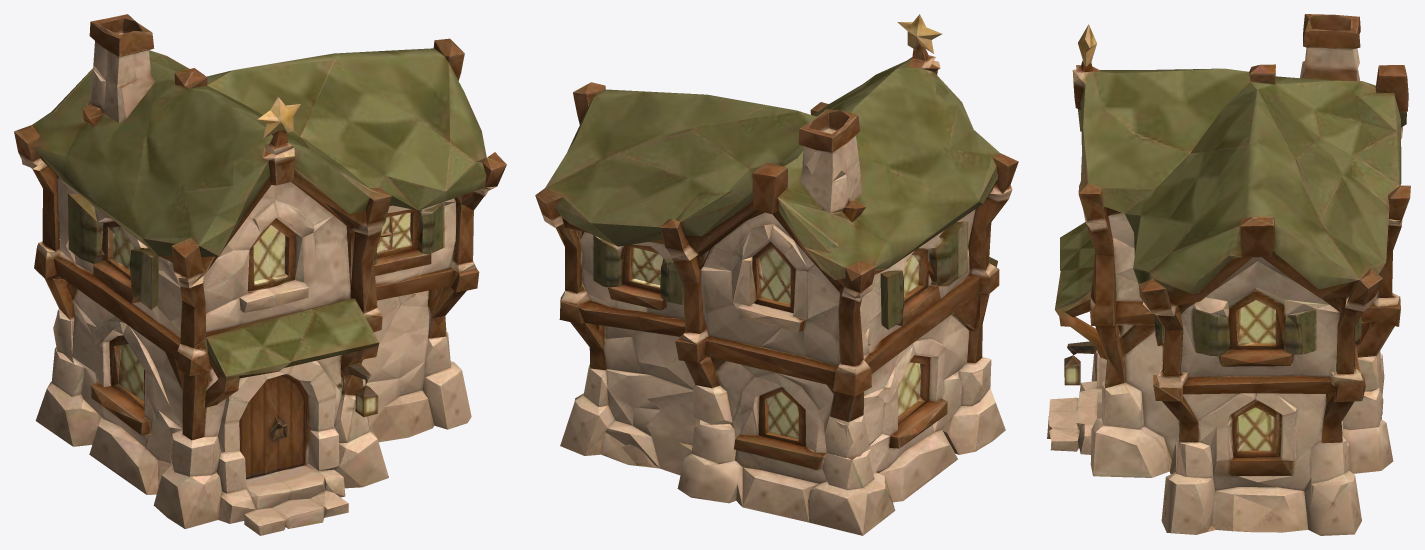
The model's file is alpha-sage-house.glb.
3 views of the same model, side by side, from view 1: azimuth 30°, elevation 25°; view 2: azimuth 150°, elevation 25°; view 3: azimuth 270°, elevation 25° (orthographic). The views are drawn at different scales.
Bounding box in the file's own units: 1.76 × 1.9 × 1.55.
1 material, 1 textured.
